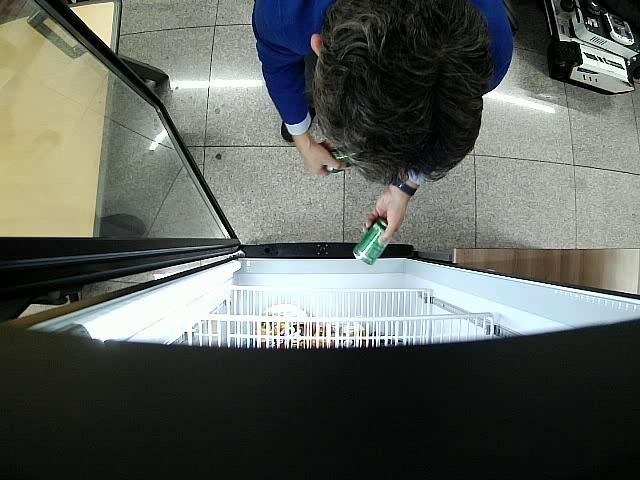12_chilsungCider: (352, 217, 392, 265), (324, 145, 362, 173)
